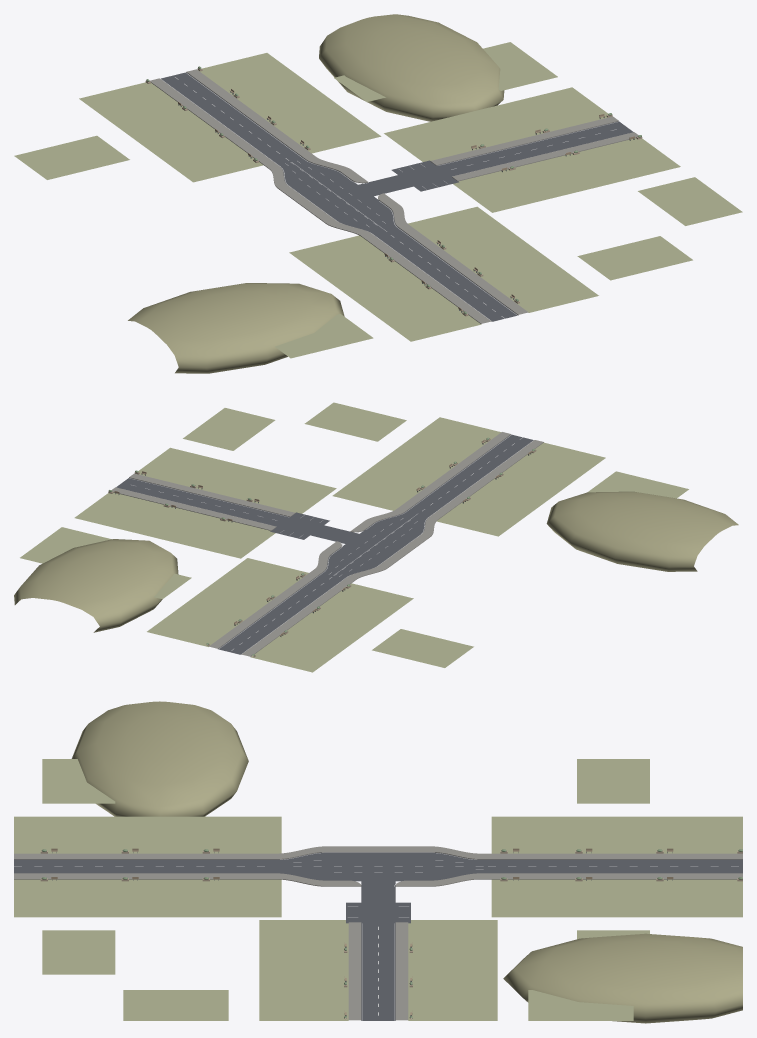
3 renders of one model, top to bottom at view 1: azimuth 30°, elevation 25°; view 2: azimuth 150°, elevation 25°; view 3: azimuth 270°, elevation 25°, orthographic. The views are drawn at different scales.
Parts seen in each view (by area): view 1: static; view 2: static; view 3: static.
Boxes of the visible parts, x1=… form: static: x1=14, y1=14, x2=742, y2=373; static: x1=14, y1=402, x2=738, y2=672; static: x1=14, y1=701, x2=742, y2=1023.
Size of what is drawn, in the model's own units: 180 by 14.08 by 180.
